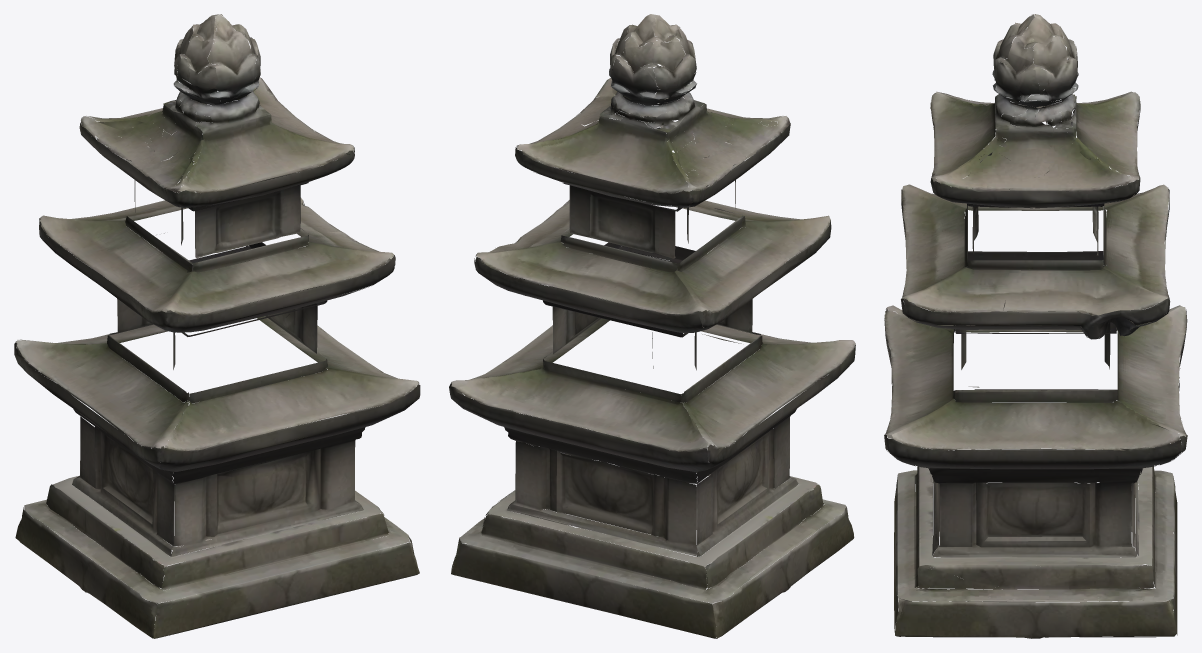
The model's file is mistPagoda.glb.
3 renders of one model, left to right at view 1: azimuth 30°, elevation 25°; view 2: azimuth 150°, elevation 25°; view 3: azimuth 270°, elevation 25°, orthographic. The views are drawn at different scales.
Parts seen in each view (by area): view 1: Prop_mistPagoda; view 2: Prop_mistPagoda; view 3: Prop_mistPagoda.
Part boxes in pixels (left/top/right/bottom): Prop_mistPagoda: left=14, top=14, right=420, bottom=638; Prop_mistPagoda: left=449, top=14, right=855, bottom=638; Prop_mistPagoda: left=884, top=14, right=1187, bottom=638.
Bounding box in the file's own units: 3.65 × 7 × 3.46.
Materials: 1 (1 with a texture image).
